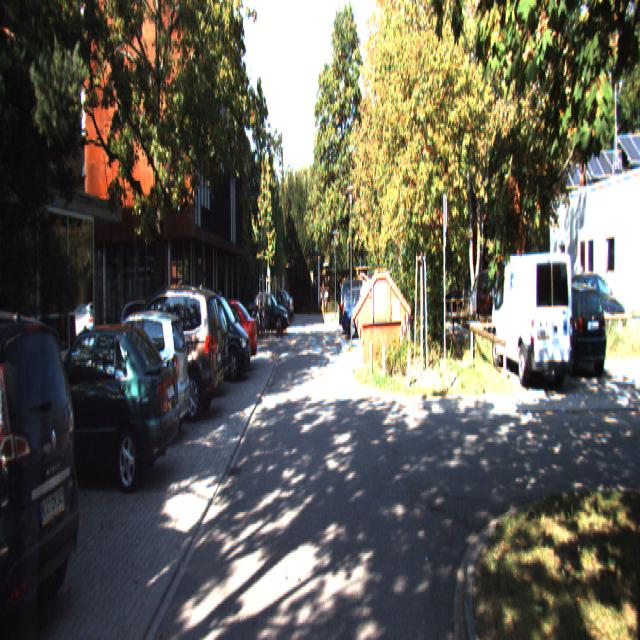Car: (0, 297, 92, 638), (17, 318, 183, 499), (104, 283, 224, 426), (79, 305, 192, 450), (488, 246, 575, 392), (533, 279, 610, 378), (178, 287, 253, 387), (188, 299, 258, 374), (342, 294, 387, 346)
DontCare: (254, 286, 293, 329), (469, 276, 490, 313), (446, 274, 464, 311), (320, 279, 325, 324)
